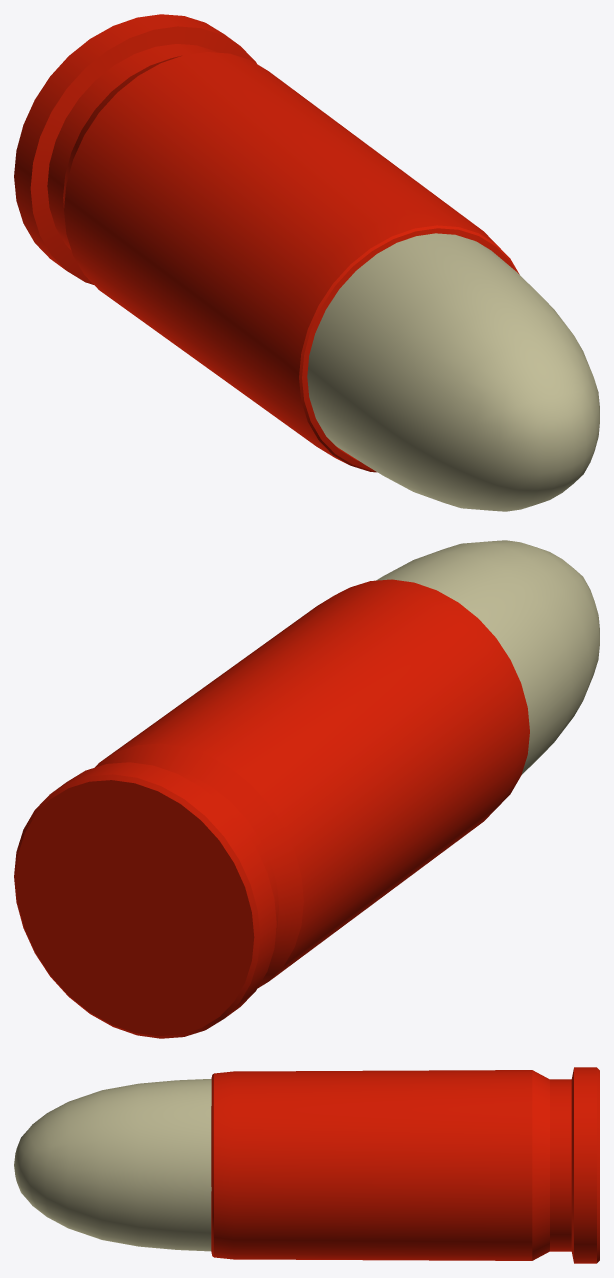
Rendered from DanDo.fbx.
The picture shows the model from 3 angles, top to bottom: view 1: azimuth 30°, elevation 25°; view 2: azimuth 150°, elevation 25°; view 3: azimuth 270°, elevation 25°; orthographic projection. The views are drawn at different scales.
Parts seen in each view (by area): view 1: 9mm_Shell, 9mm_Bullet; view 2: 9mm_Shell, 9mm_Bullet; view 3: 9mm_Shell, 9mm_Bullet.
Boxes of the visible parts, bbox=[...] form: 9mm_Shell: bbox=[14, 14, 519, 472]; 9mm_Bullet: bbox=[307, 233, 599, 511]; 9mm_Shell: bbox=[14, 579, 529, 1038]; 9mm_Bullet: bbox=[376, 540, 599, 774]; 9mm_Shell: bbox=[211, 1067, 599, 1263]; 9mm_Bullet: bbox=[14, 1078, 211, 1251].
Size of the model in its own units: 2.04 by 2.04 by 6.07.
